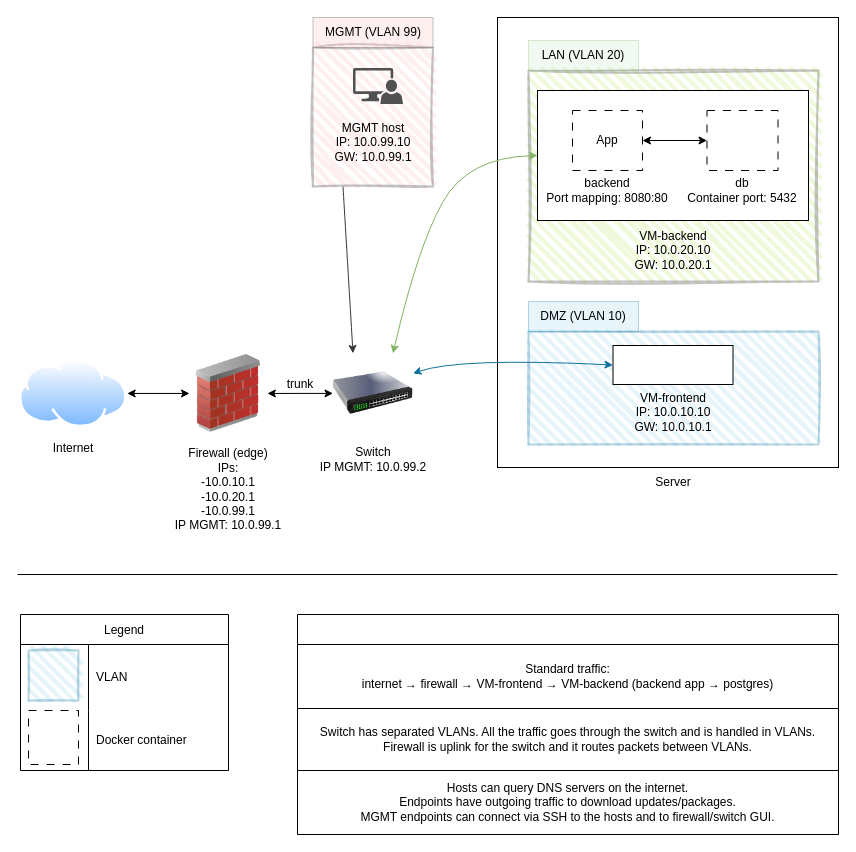
The diagram is 856 pixels wide and 852 high, and some of its shapes have lost their labels. Each missing label, with the box of its shape:
Flow: (296, 614, 838, 834)
Nginx: (612, 344, 733, 384)
Postgres: (706, 110, 778, 170)
